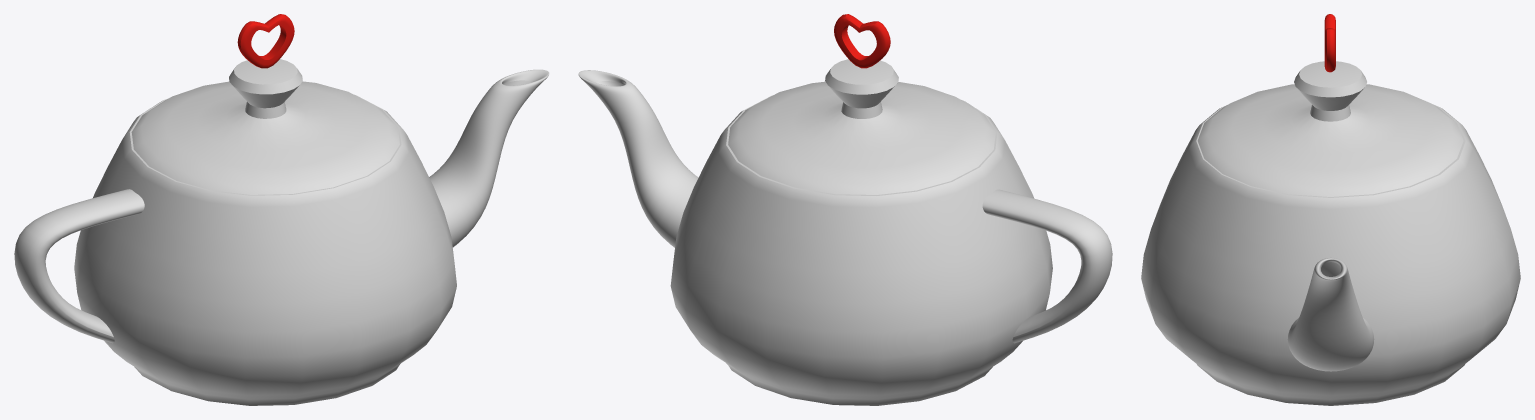
File: Teapot.fbx
3 views of the same model, side by side, from view 1: azimuth 30°, elevation 25°; view 2: azimuth 150°, elevation 25°; view 3: azimuth 270°, elevation 25° (orthographic).
Visible parts, largest first — view 1: Teapot; view 2: Teapot; view 3: Teapot.
Boxes of the visible parts, left/top/right/bottom form: Teapot: left=14, top=14, right=549, bottom=405; Teapot: left=578, top=14, right=1112, bottom=405; Teapot: left=1141, top=14, right=1520, bottom=405.
Bounding box in the file's own units: 93.43 × 56.87 × 58.62.
